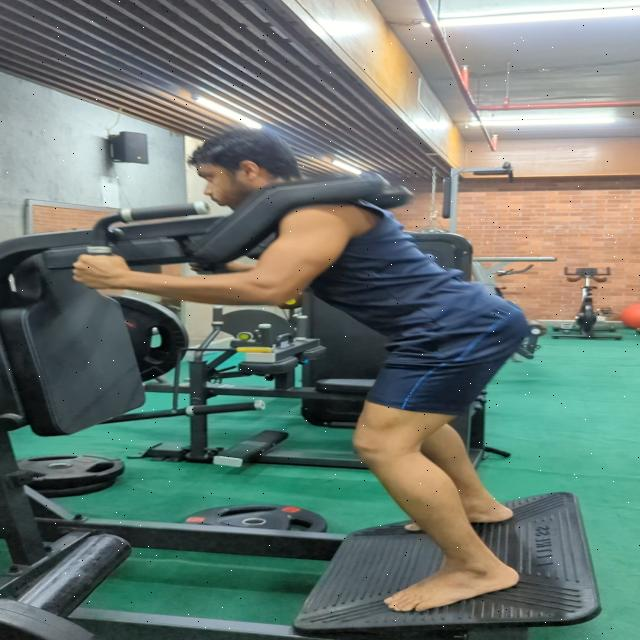Normal_SquatsWithBarbell: (16, 129, 557, 621)
